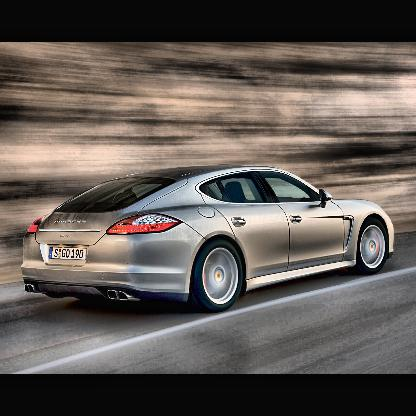Porsche Panamera Sedan 2012: (21, 165, 397, 314)
